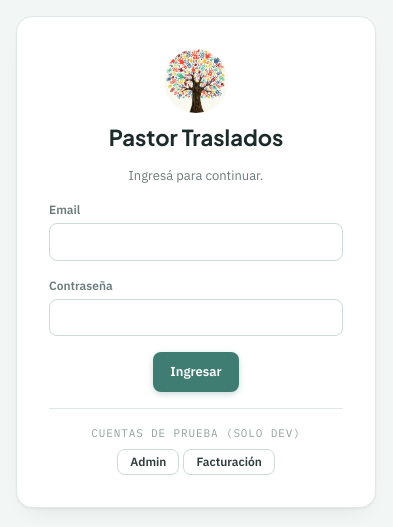
Test case: LoginPage — botones de cuentas de prueba › rellena el email y la contraseña al hacer click, sin loguear automáticamente
Click the button "Facturación".
click(229, 462)  # box [183,449,275,475]
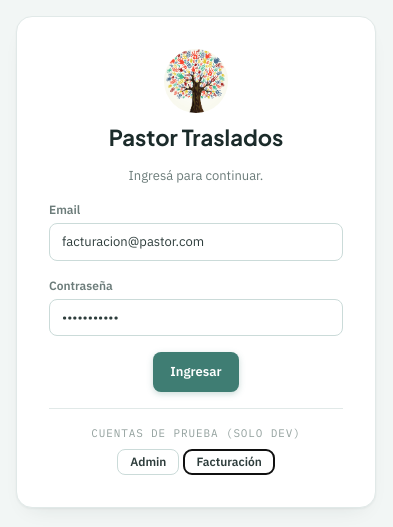
Result: the field labelled "Email" holds "facturacion@pastor.com" at [49,223,343,261]
Result: the password field labelled "Contraseña" holds "facturacion" at [49,299,343,336]
